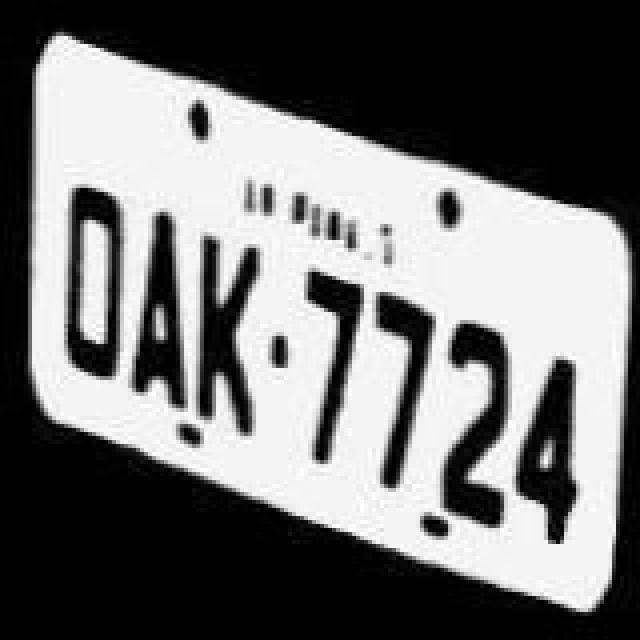2: (430, 304, 514, 532)
4: (510, 350, 586, 554)
7: (364, 288, 436, 500), (300, 262, 368, 482)
A: (130, 198, 194, 414)
K: (188, 228, 264, 440)
O: (52, 164, 128, 388)
